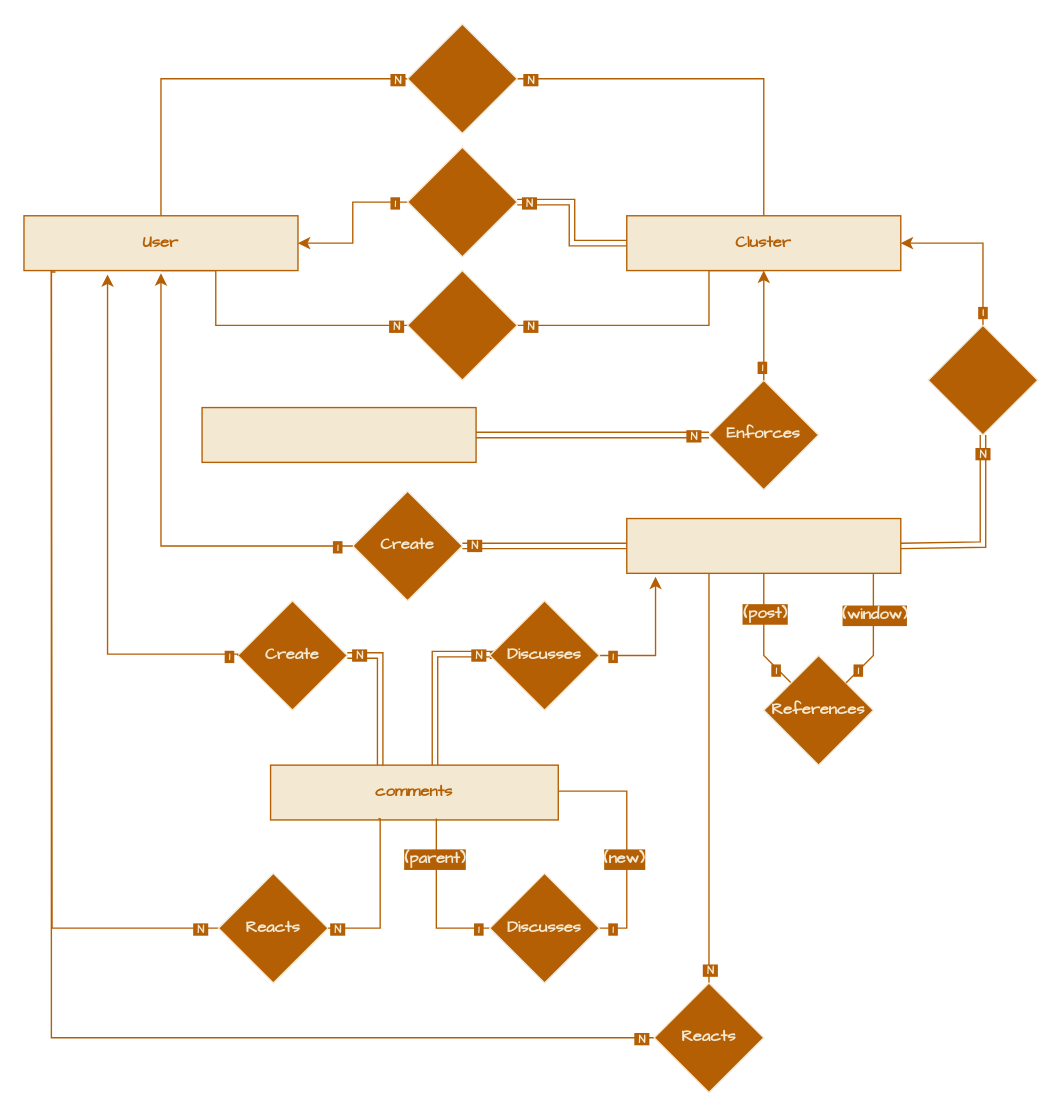
The diagram is 1062 pixels wide and 1117 high, and some of its shapes have lost their labels. Here are the shapes that lost their labels. From the top down, the centre of each, then its label:
point 461,78: Moderates
point 461,201: Creates
point 461,324: Joins
point 982,379: Contains
point 338,434: Rules
point 763,545: Post
